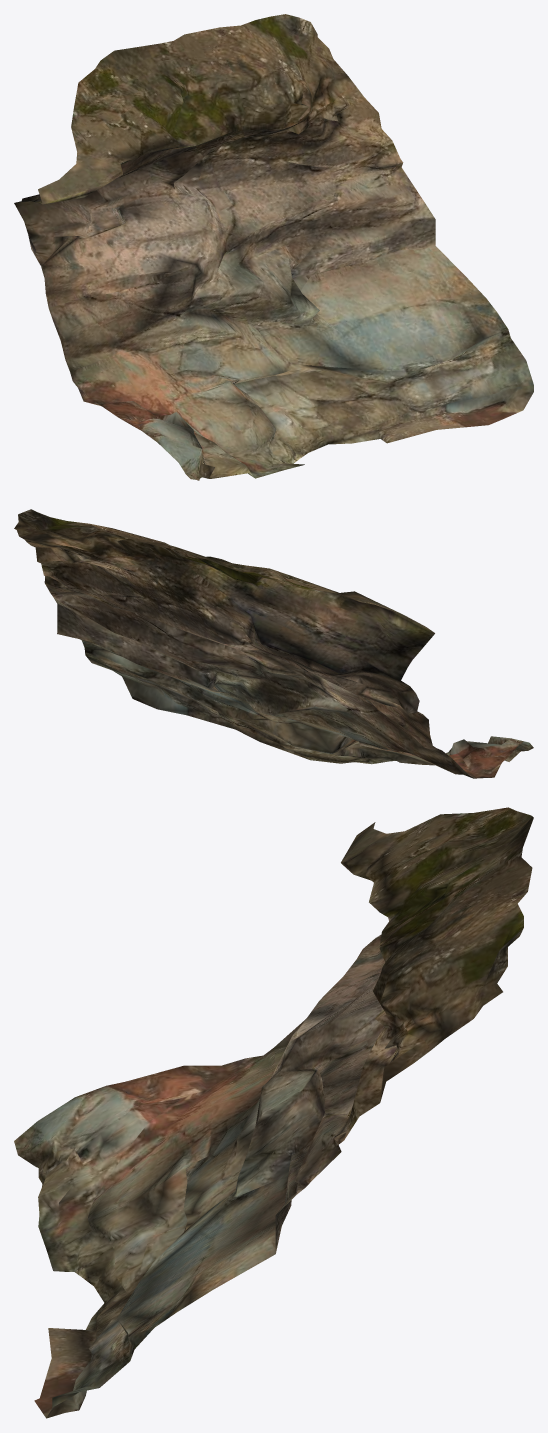
The model's file is rock_face_01.glb.
The picture shows the model from 3 angles, top to bottom: view 1: azimuth 30°, elevation 25°; view 2: azimuth 150°, elevation 25°; view 3: azimuth 270°, elevation 25°; orthographic projection. The views are drawn at different scales.
Parts seen in each view (by area): view 1: rock_face_01; view 2: rock_face_01; view 3: rock_face_01.
Part boxes in pixels (x1,y1,x2,y2): rock_face_01: (14,14,533,480); rock_face_01: (14,509,533,778); rock_face_01: (14,807,533,1418).
Bounding box in the file's own units: 4.94 × 3.56 × 3.82.
Materials: 1 (1 with a texture image).
